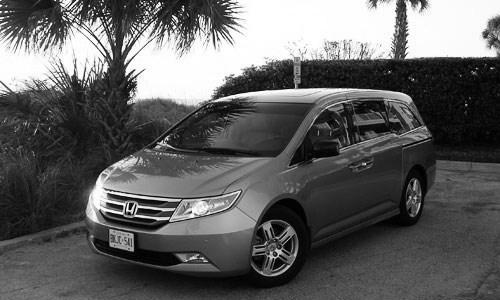car: (84, 88, 438, 292)
